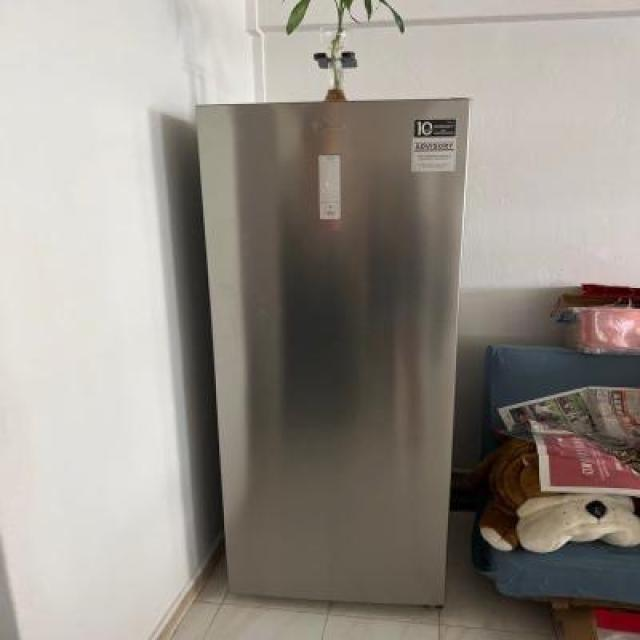refrigerator: (196, 96, 474, 611)
